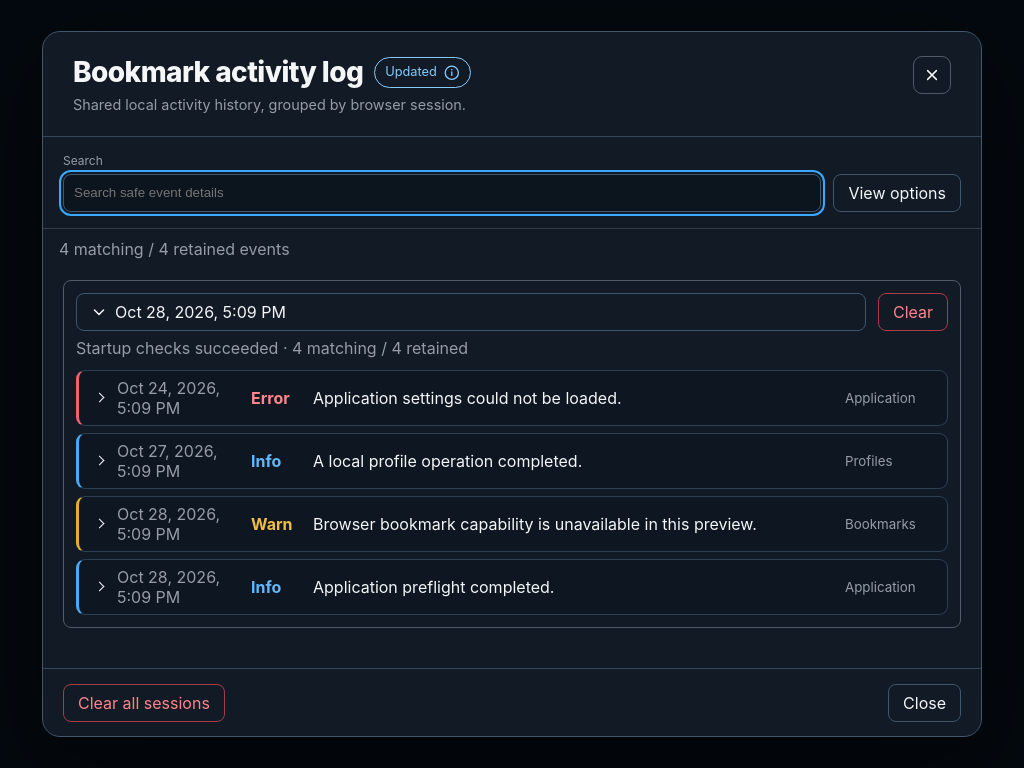
Scenario: shared activity log › groups current history, retains outcome under filters, and has no export control
The image size is (1024, 768).
Expected: the number of list items is 4, [76, 370, 948, 426]; [76, 432, 948, 488]; [76, 496, 948, 552]; [76, 558, 948, 614]
Expected: the text "Startup checks succeeded · 4 matching / 4 retained" is shown, [76, 338, 468, 358]
Click the button "View options" at (897, 193), box [834, 174, 961, 212]
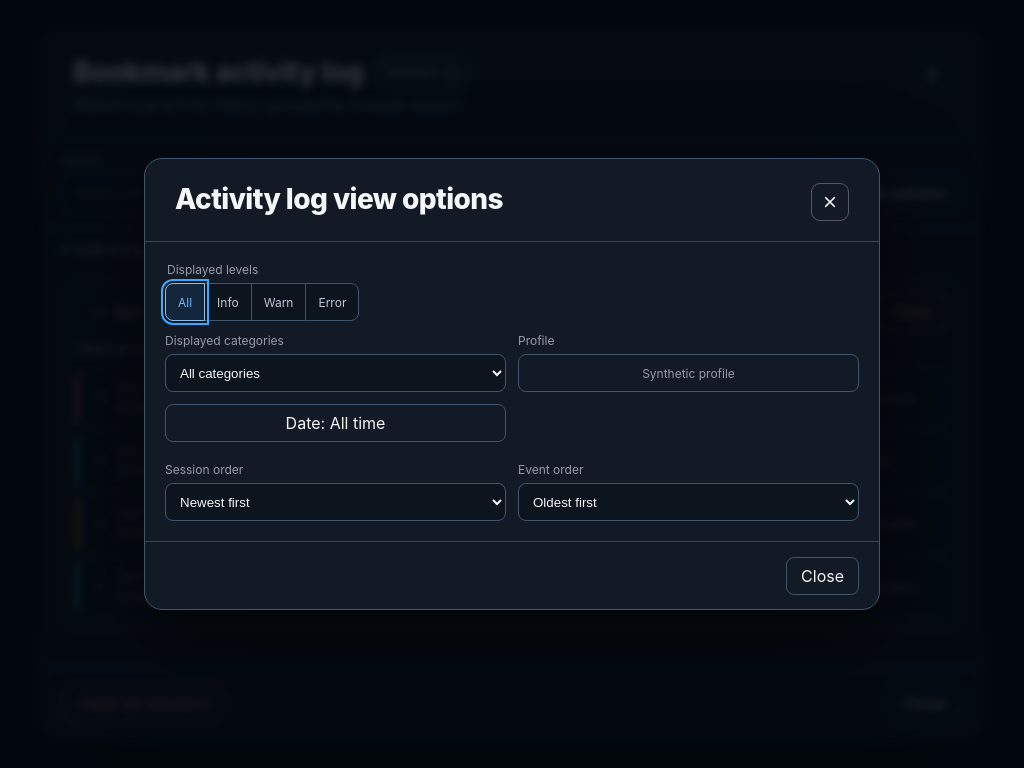
Click the button "Error" at (332, 302), box [306, 283, 360, 321]
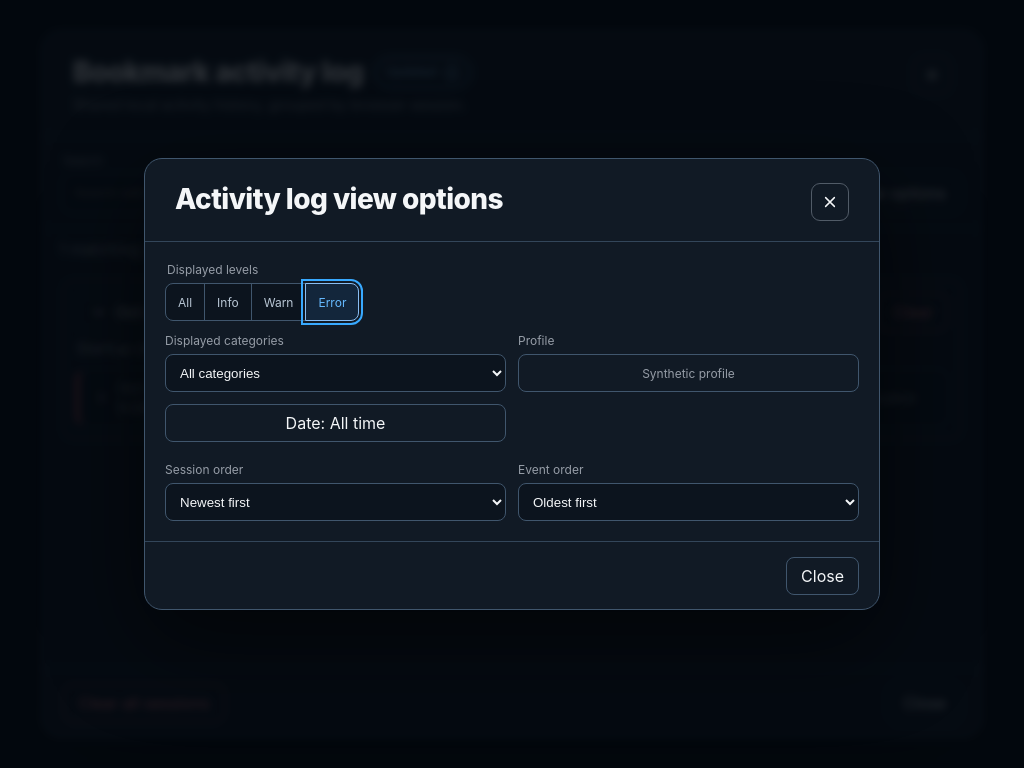
Click the button "Close" at (823, 576), box [786, 556, 859, 594]
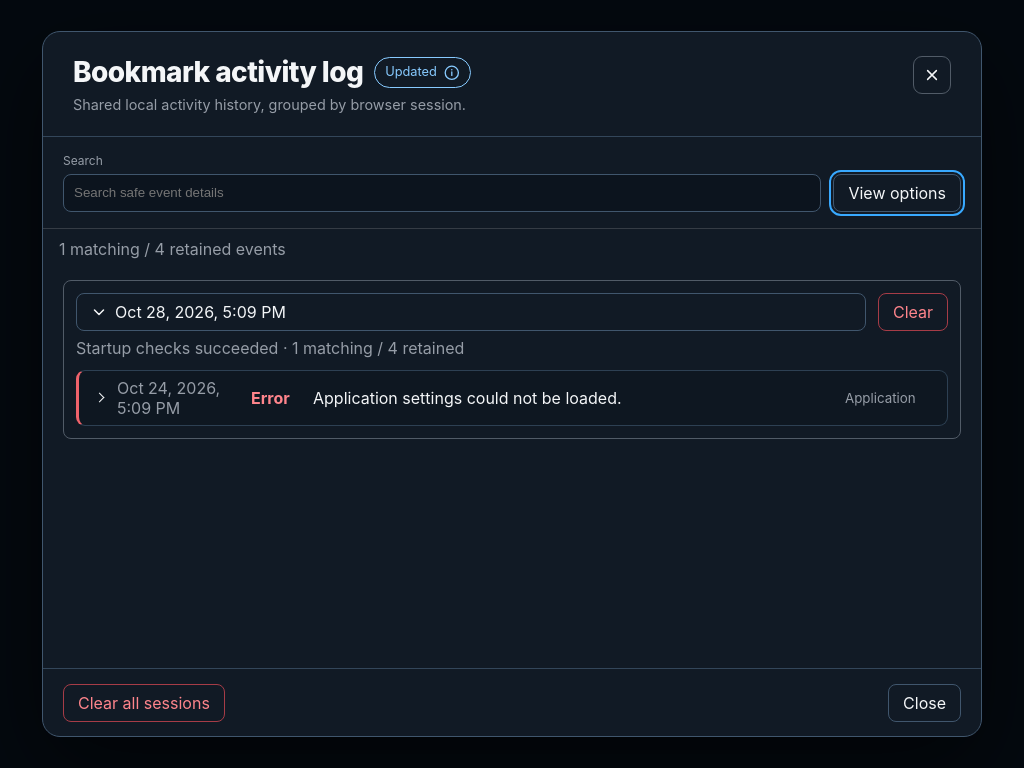
Expected: the text "Startup checks succeeded · 1 matching / 4 retained" is shown, [76, 338, 464, 358]
Expected: the number of list items is 1, [76, 370, 948, 426]
Click the text "Application settings could not be loaded." at (467, 398), box [313, 388, 622, 408]
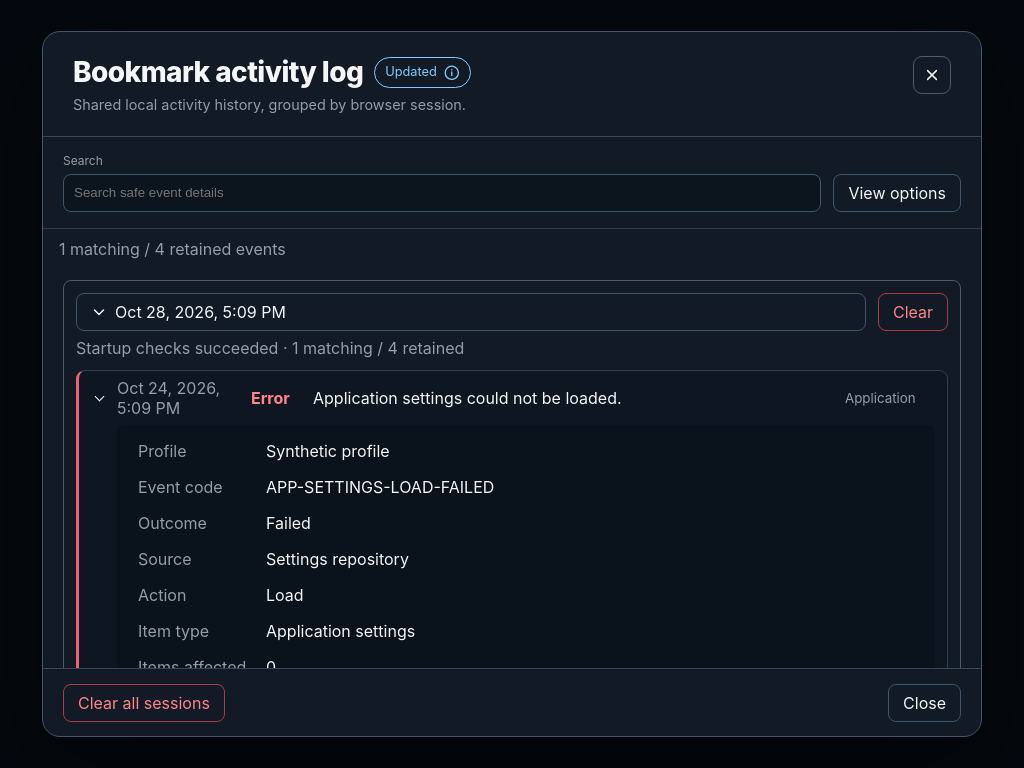
Expected: the text "APP-SETTINGS-LOAD-FAILED" is shown, [266, 476, 494, 496]
